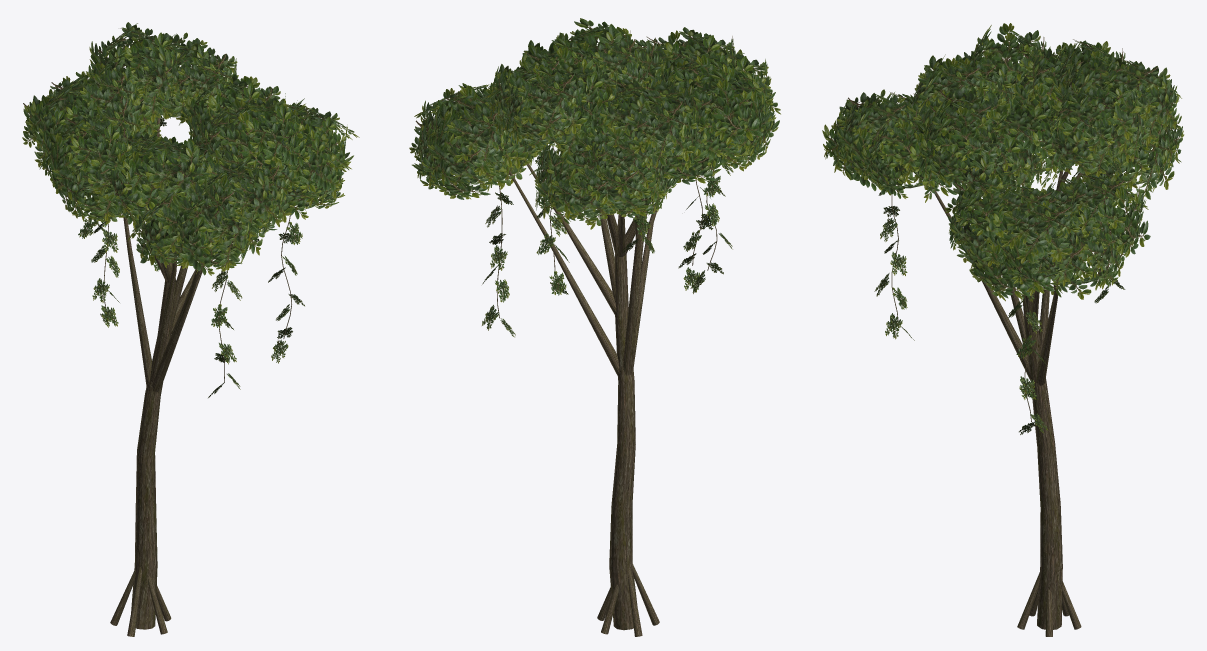
Rendered from tree_04.glb.
3 views of the same model, side by side, from view 1: azimuth 30°, elevation 25°; view 2: azimuth 150°, elevation 25°; view 3: azimuth 270°, elevation 25° (orthographic). The views are drawn at different scales.
Visible parts, largest first — view 1: tree_04; view 2: tree_04; view 3: tree_04.
Part boxes in pixels (<box>): tree_04: <box>22,22,359,636</box>; tree_04: <box>409,18,780,636</box>; tree_04: <box>822,23,1184,636</box>.
Size of the model in its own units: 9.08 by 14.75 by 8.64.
2 materials, 2 textured.
